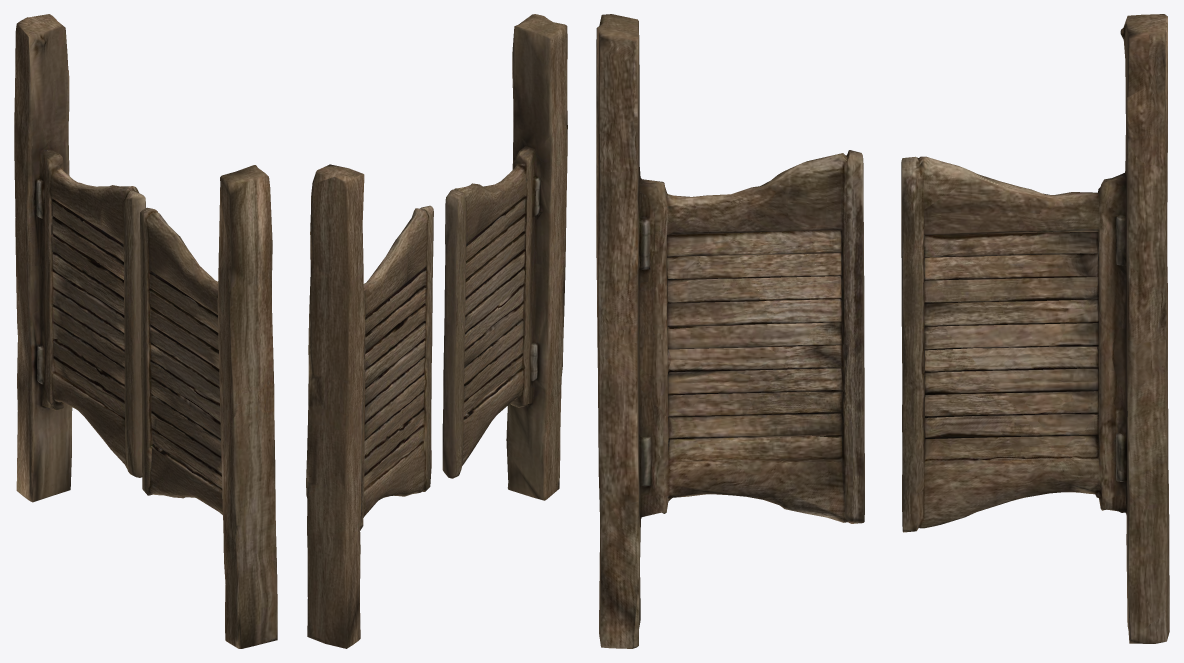
The model's file is Saloon_Swinging_Doors.glb.
The picture shows the model from 3 angles, left to right: view 1: azimuth 30°, elevation 25°; view 2: azimuth 150°, elevation 25°; view 3: azimuth 270°, elevation 25°; orthographic projection. The views are drawn at different scales.
Parts seen in each view (by area): view 1: tripo_node_06e6cc17-a2a7-47ce-b3c4-e0fbfc588e1c; view 2: tripo_node_06e6cc17-a2a7-47ce-b3c4-e0fbfc588e1c; view 3: tripo_node_06e6cc17-a2a7-47ce-b3c4-e0fbfc588e1c.
Boxes of the visible parts, x1,y1,x2,y2 form: tripo_node_06e6cc17-a2a7-47ce-b3c4-e0fbfc588e1c: [14, 14, 277, 648]; tripo_node_06e6cc17-a2a7-47ce-b3c4-e0fbfc588e1c: [306, 14, 567, 648]; tripo_node_06e6cc17-a2a7-47ce-b3c4-e0fbfc588e1c: [596, 14, 1169, 648].
Bounding box in the file's own units: 0.1039 × 0.979 × 0.8314.
Materials: 1 (1 with a texture image).
